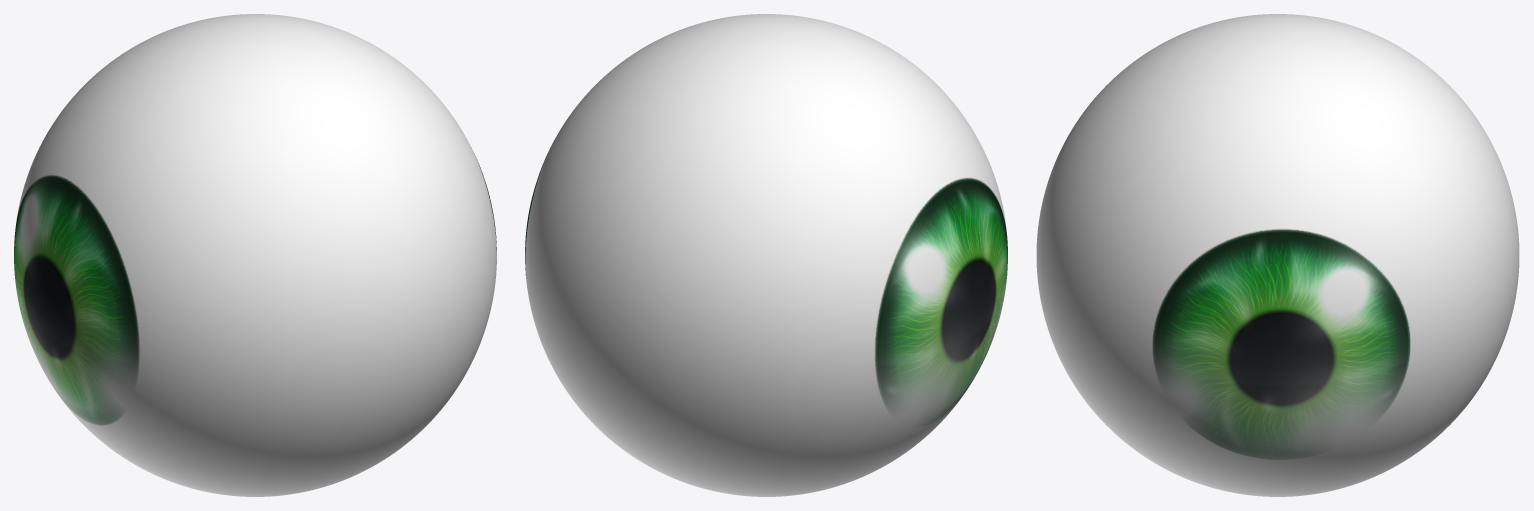
Rendered from eye-3d.glb.
3 views of the same model, side by side, from view 1: azimuth 30°, elevation 25°; view 2: azimuth 150°, elevation 25°; view 3: azimuth 270°, elevation 25° (orthographic).
Parts seen in each view (by area): view 1: Sphere; view 2: Sphere; view 3: Sphere.
Part boxes in pixels (<box>): Sphere: <box>14,14,496,496</box>; Sphere: <box>525,14,1007,496</box>; Sphere: <box>1036,14,1519,496</box>.
Bounding box in the file's own units: 2 × 2 × 2.
1 material, 1 textured.
